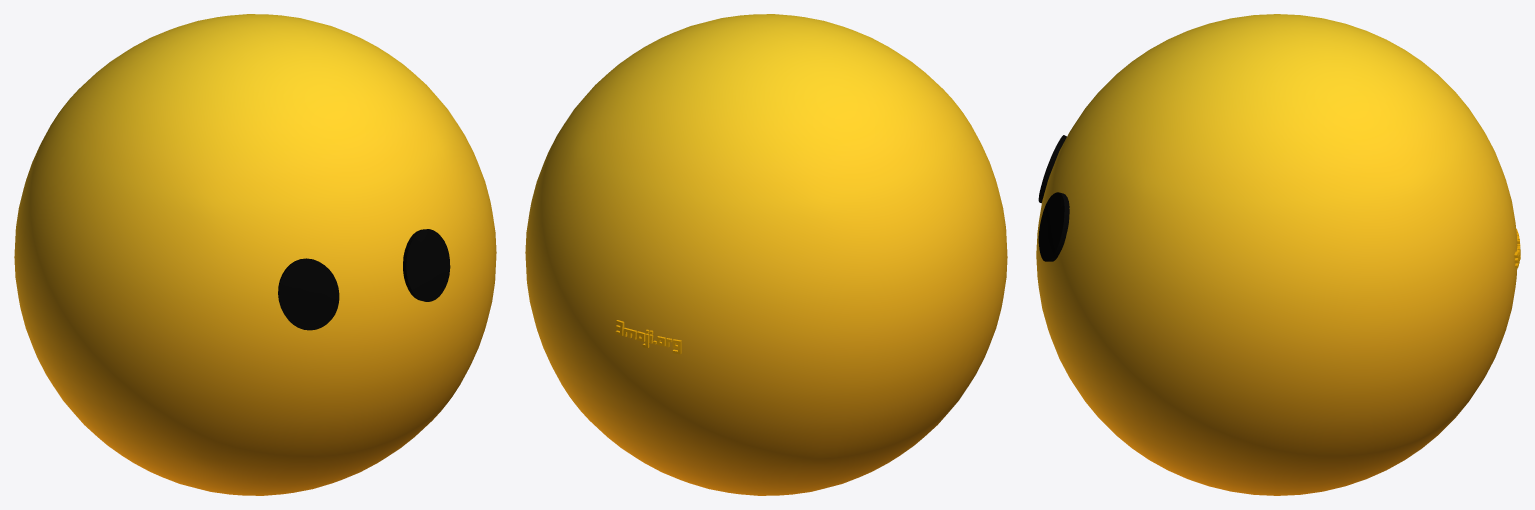
Rendered from face_without_mouth.glb.
3 renders of one model, left to right at view 1: azimuth 30°, elevation 25°; view 2: azimuth 150°, elevation 25°; view 3: azimuth 270°, elevation 25°, orthographic.
Visible parts, largest first — view 1: face_without_mouth; view 2: face_without_mouth; view 3: face_without_mouth.
Boxes of the visible parts, bbox=[...] form: face_without_mouth: bbox=[14, 14, 496, 495]; face_without_mouth: bbox=[525, 14, 1007, 495]; face_without_mouth: bbox=[1036, 14, 1520, 495].
Size of the model in its own units: 1.69 by 1.69 by 1.7.
Materials: 1 (1 with a texture image).
